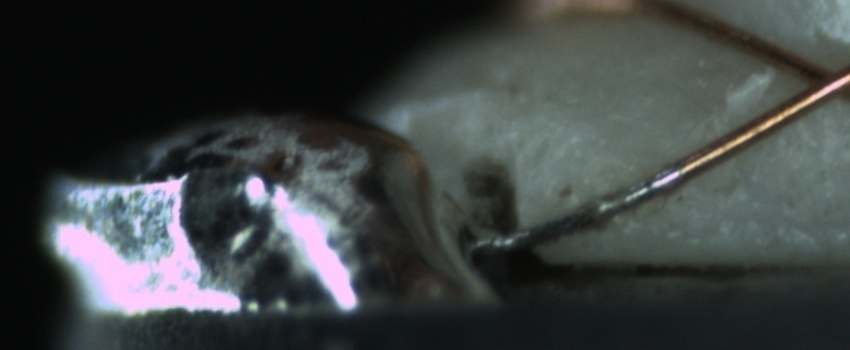CL: (771, 40, 849, 113)
TS: (488, 162, 679, 256)
